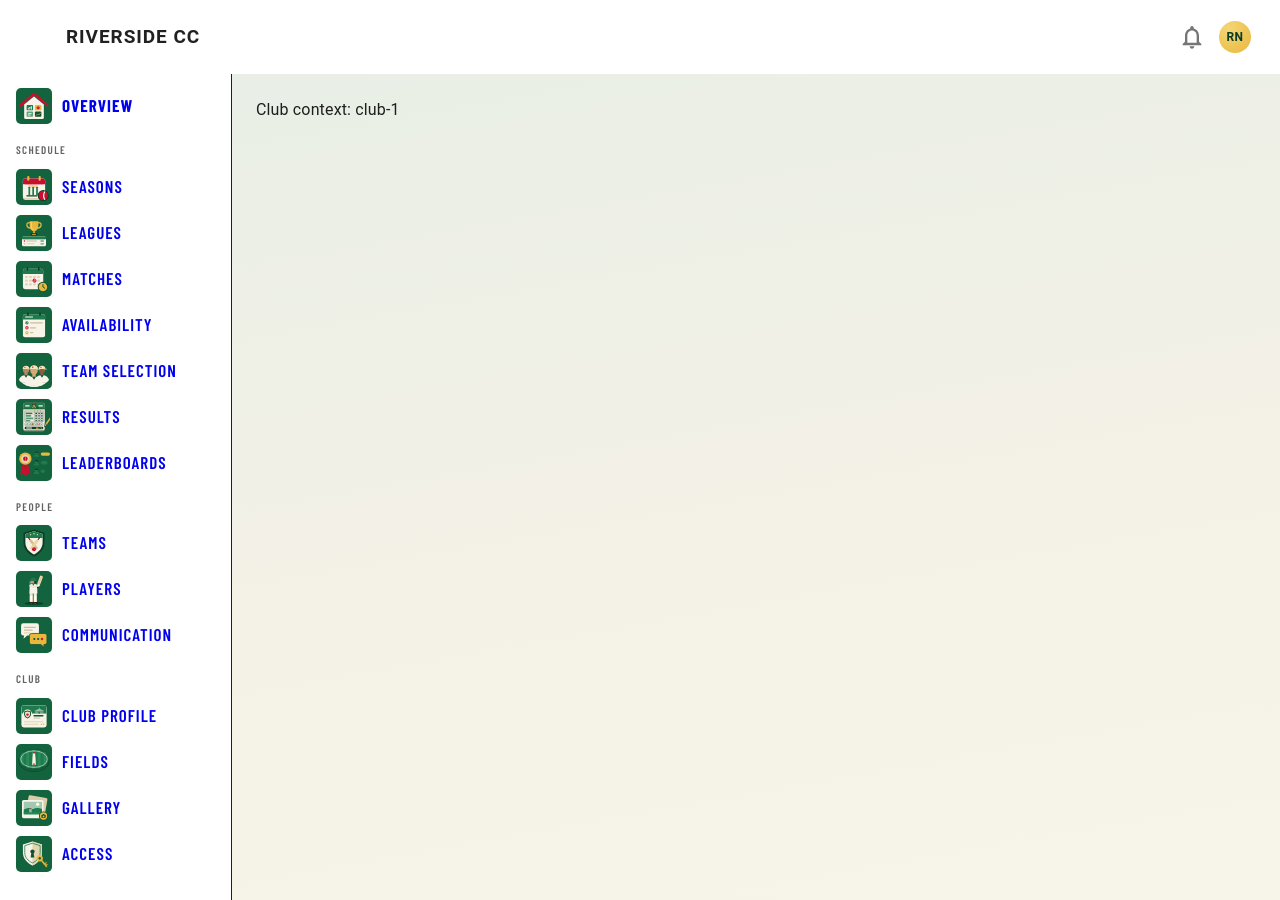
ManagerHome › profiles and Player Hub (docs/specs/119) › shows Switch profile instead of Player Hub when there is more than one profile card
Expected: the text "Club context: club-1" is shown, [256,100,400,119]
Click the button with aria-label "Account menu": x=1235, y=37 [1214,16,1256,58]
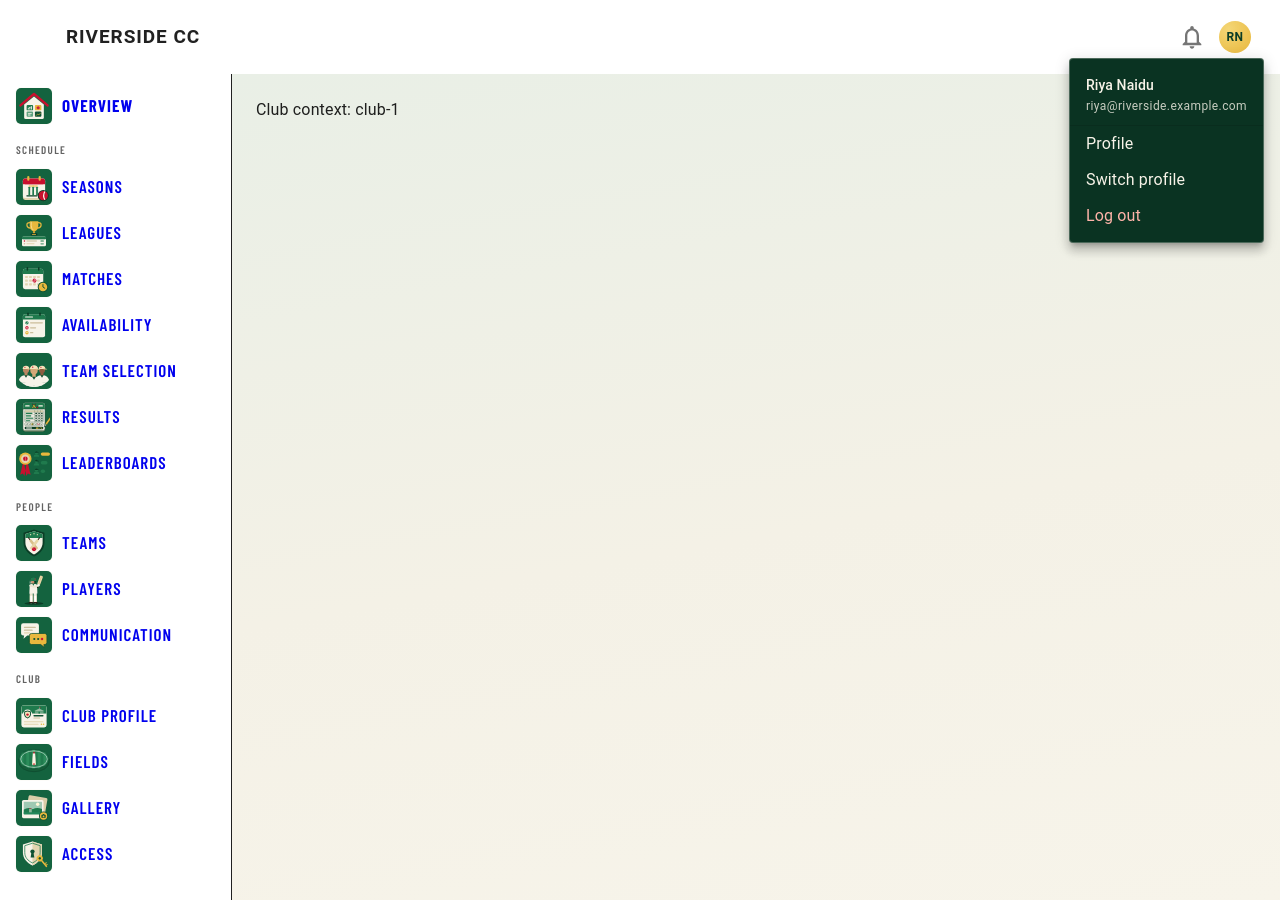
Now the menu item "Switch profile" is shown, box [1086,170,1185,189]
